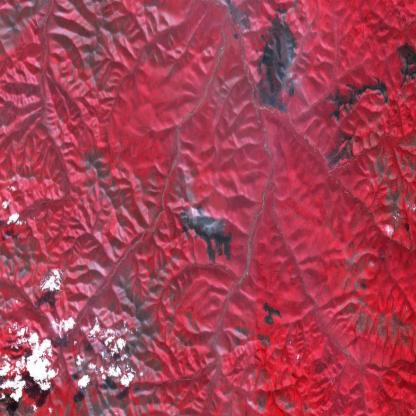fire: (233, 62, 299, 106), (136, 336, 157, 364)
